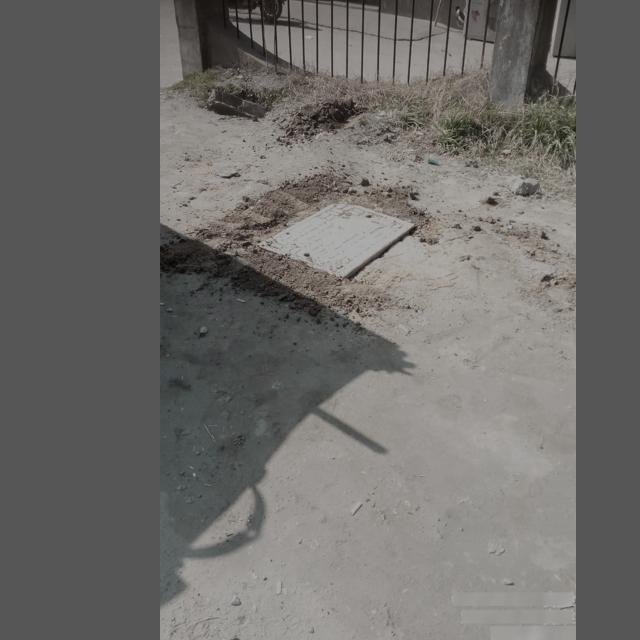good: (260, 200, 416, 275)
